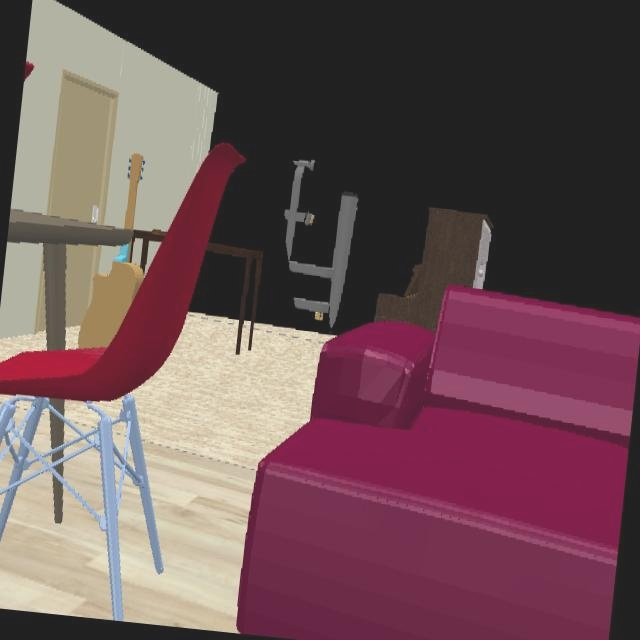chair: (0, 142, 246, 544)
sofa: (236, 287, 640, 640)
table: (6, 208, 165, 350), (48, 400, 65, 450)
